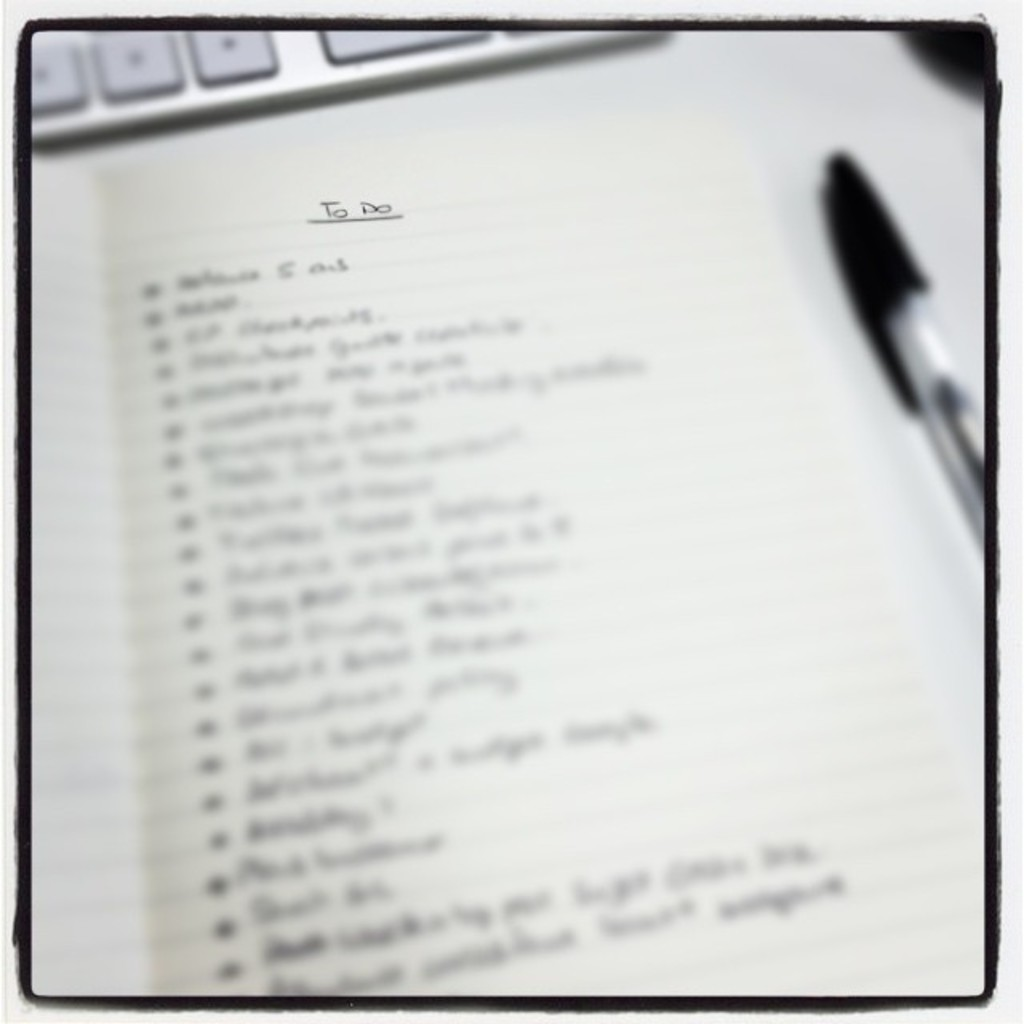Pen: (811, 147, 979, 555)
